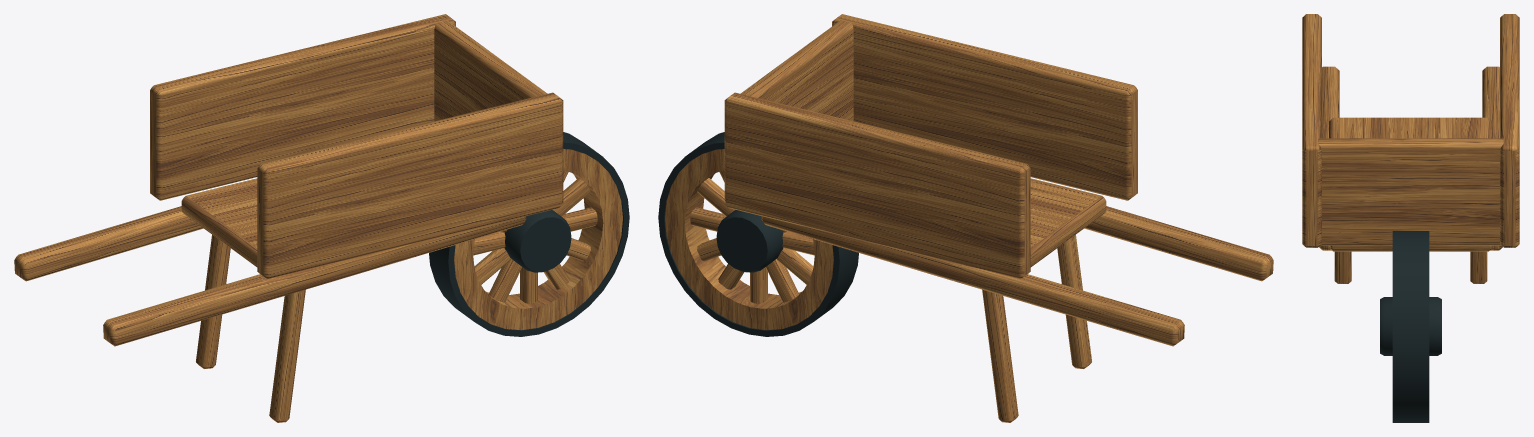
The model's file is 23_Carretilla.obj.
3 renders of one model, left to right at view 1: azimuth 30°, elevation 25°; view 2: azimuth 150°, elevation 25°; view 3: azimuth 270°, elevation 25°, orthographic. The views are drawn at different scales.
Visible parts, largest first — view 1: 23_Carretilla_Wood, 23_Carretilla_Iron; view 2: 23_Carretilla_Wood, 23_Carretilla_Iron; view 3: 23_Carretilla_Wood, 23_Carretilla_Iron.
Part boxes in pixels (x1,y1,x2,y2): 23_Carretilla_Wood: (14, 14, 622, 422); 23_Carretilla_Iron: (429, 132, 629, 336); 23_Carretilla_Wood: (665, 14, 1273, 422); 23_Carretilla_Iron: (658, 132, 858, 336); 23_Carretilla_Wood: (1302, 14, 1519, 283); 23_Carretilla_Iron: (1380, 231, 1441, 422).
Bounding box in the file's own units: 2.1 × 1 × 0.77.
Materials: 2 (1 with a texture image).
